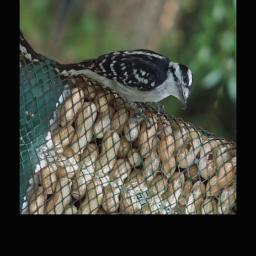Woodpecker: (44, 2, 204, 144)
